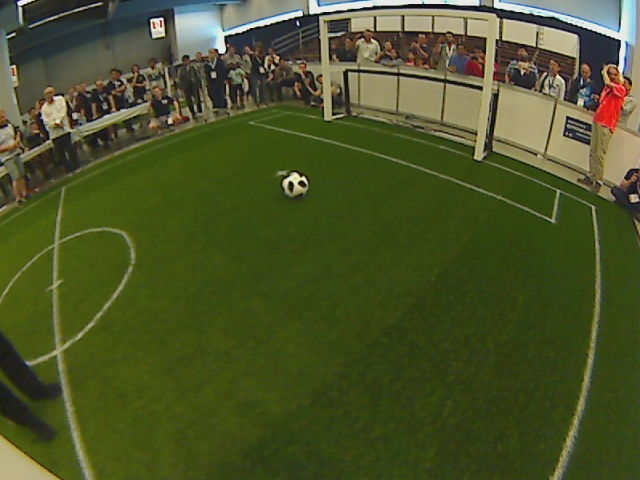ball: (277, 169, 309, 198)
